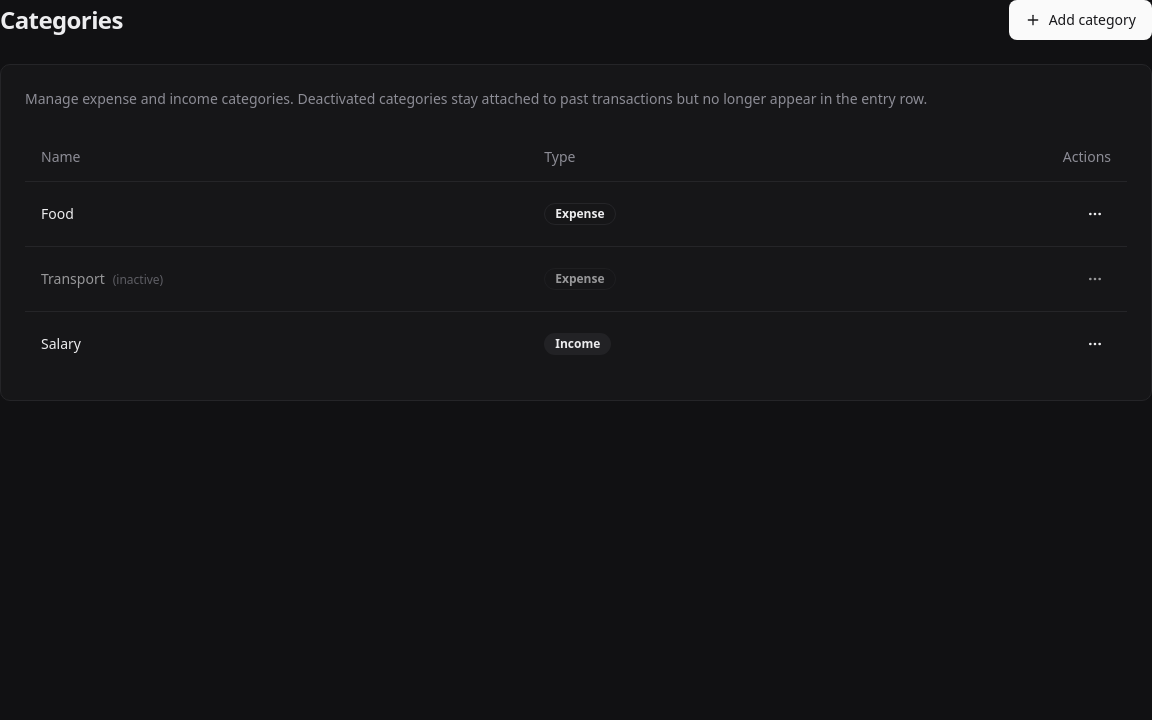
Scenario: Categories › as admin › Cancel closes the confirm without deleting anything
Expected: the text "Food" is shown, [25, 181, 528, 246]
Click the button named "actions for food": (1095, 214) [1079, 198, 1111, 230]
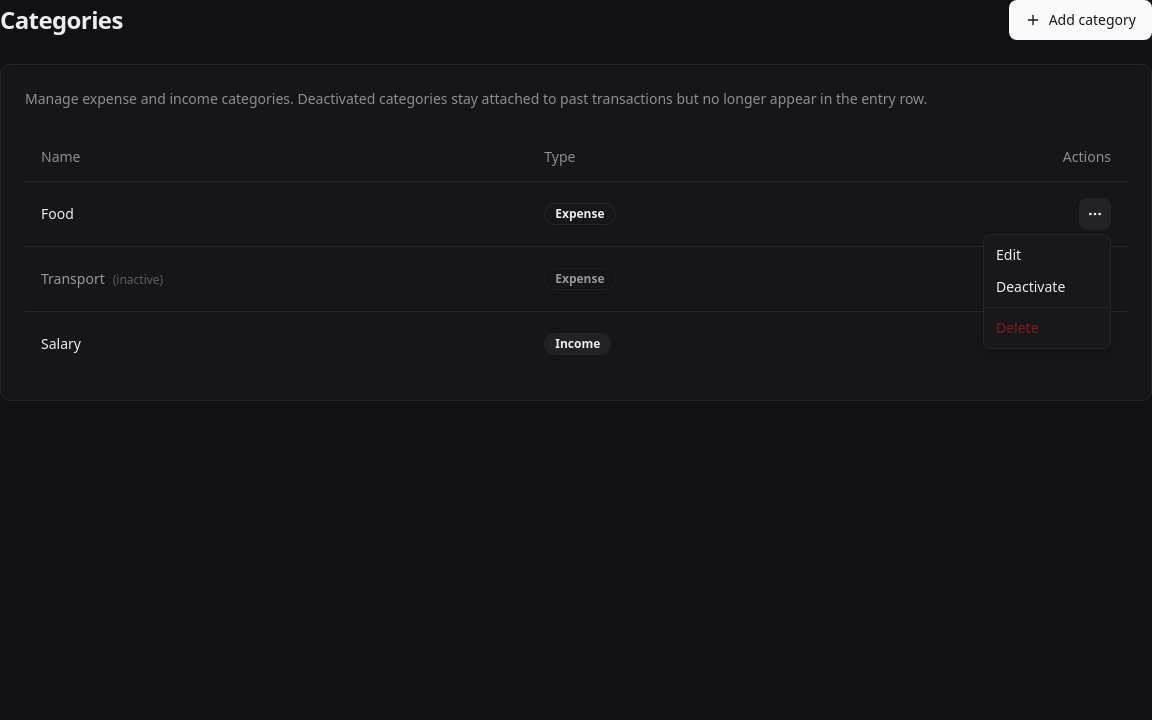
Click the menu item "Delete": (1017, 328) [996, 318, 1039, 337]
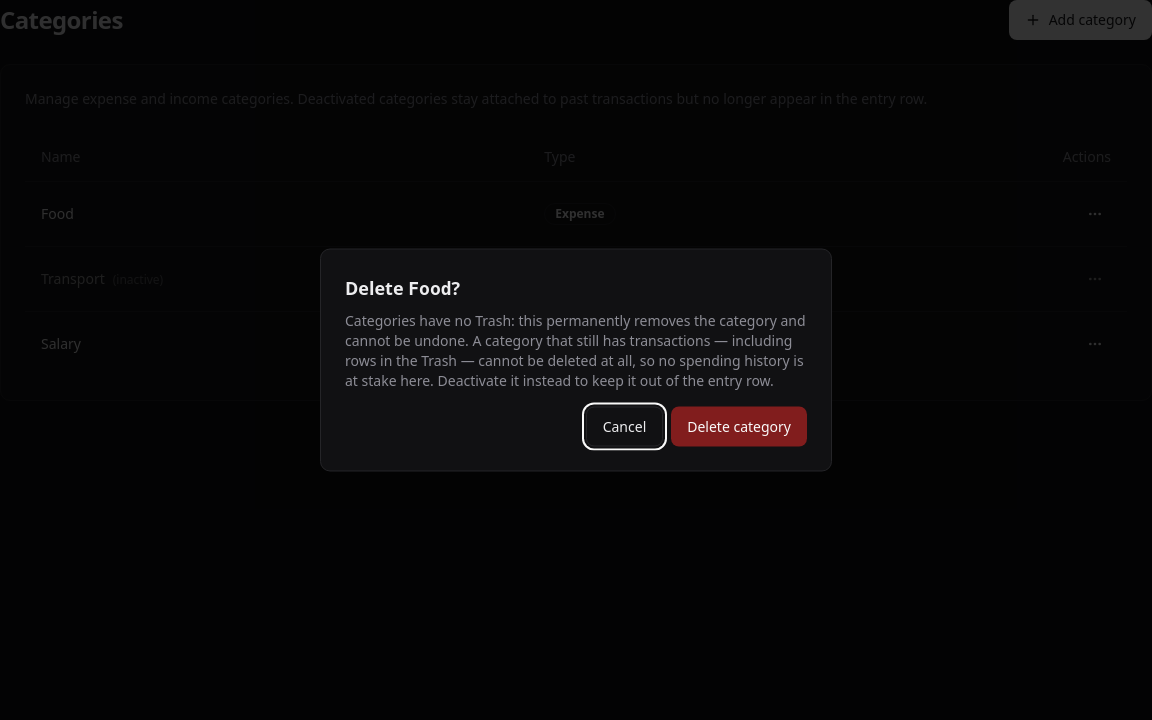
Click the button "Cancel": (624, 426) [586, 406, 663, 446]
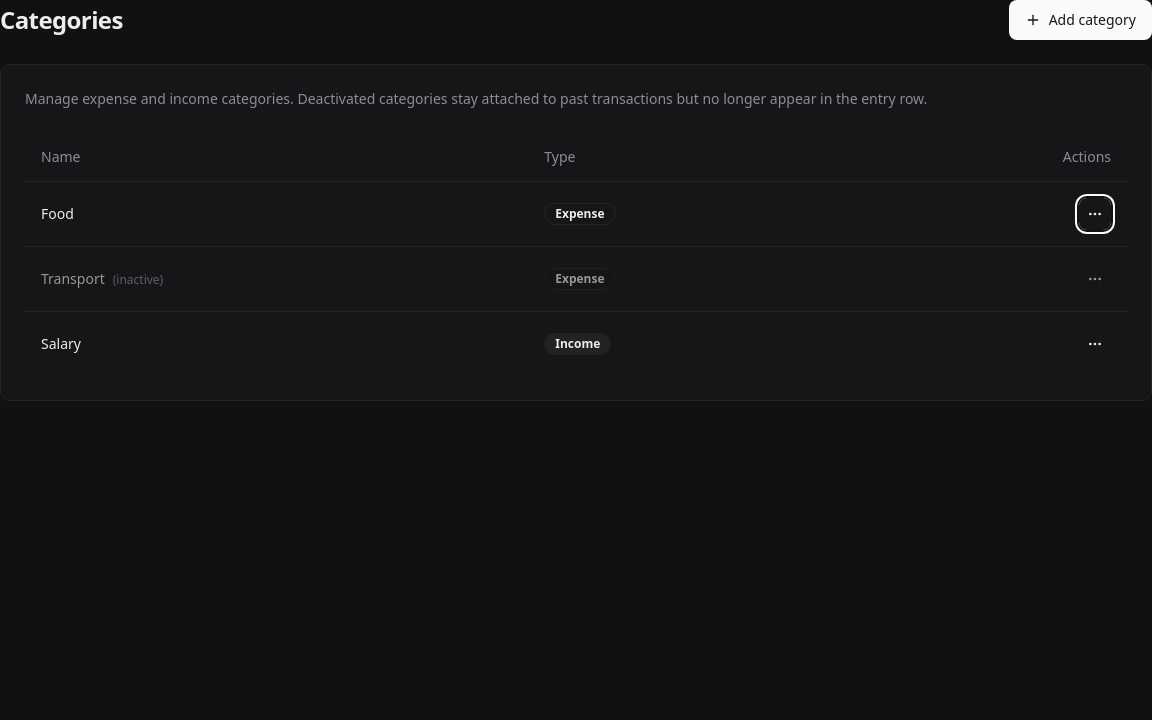
Expected: the text "Food" is shown, [25, 181, 528, 246]
Expected: the dialog is gone
